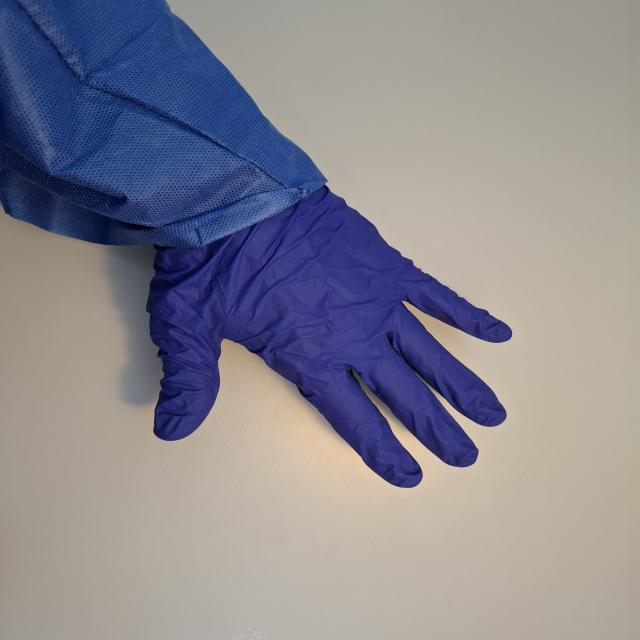glove_on: (143, 184, 515, 490)
